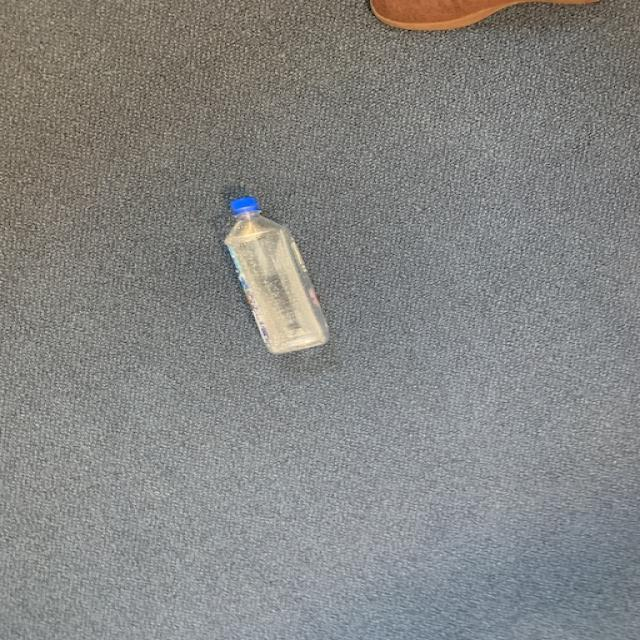Waste: (225, 197, 329, 354)
